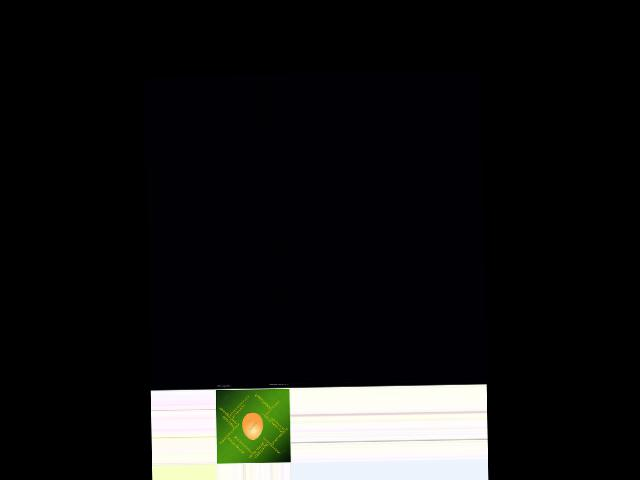egg: (242, 412, 263, 439)
